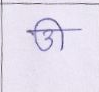e_matra: (37, 17, 64, 29)
